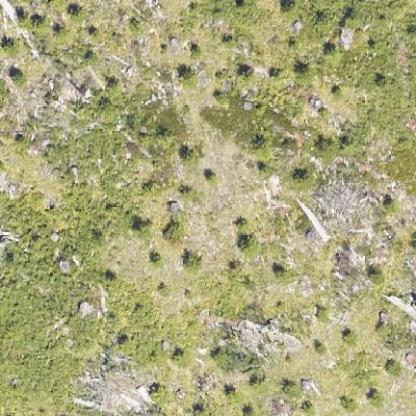tree-top: (160, 218, 187, 245), (179, 245, 204, 274), (236, 232, 261, 257), (291, 164, 314, 188), (323, 42, 346, 64)
